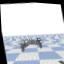drone: (16, 35, 43, 52)
